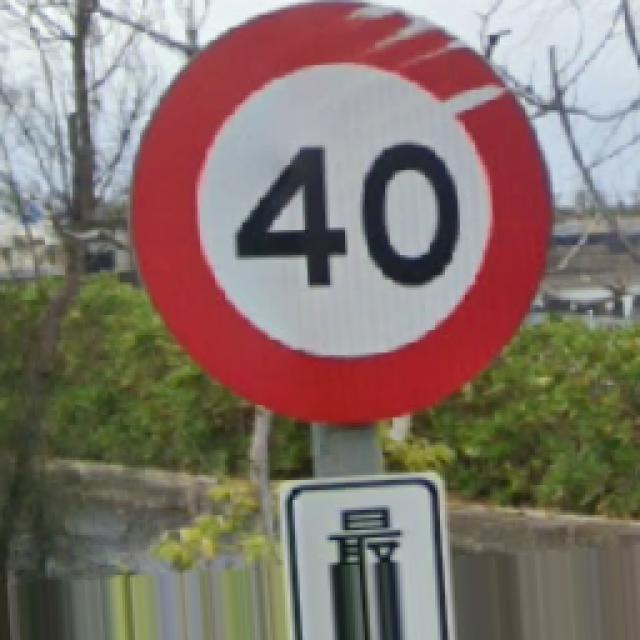Speed Limit -40-: (132, 2, 550, 422)
